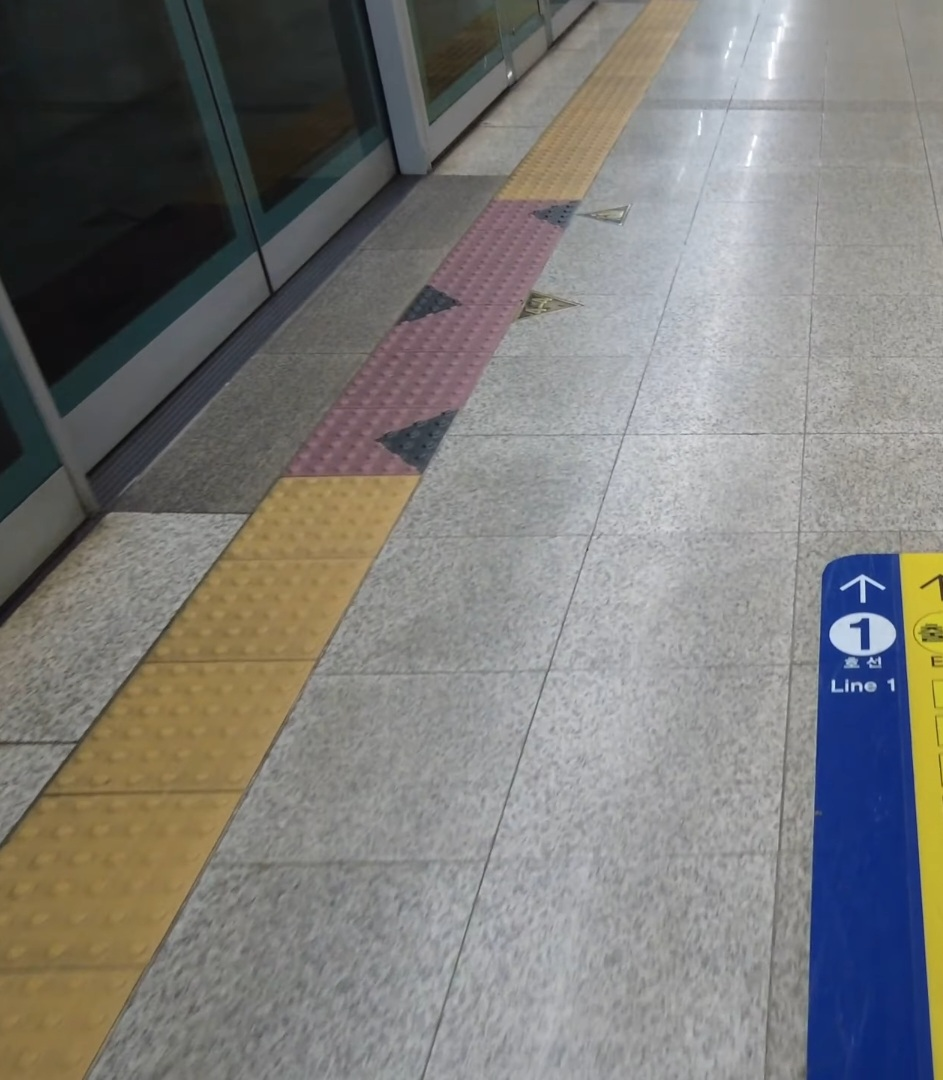warningBlock: (3, 800, 219, 959), (112, 673, 280, 786), (192, 574, 350, 677), (253, 468, 399, 566), (327, 406, 456, 473), (370, 349, 480, 413), (416, 297, 513, 360)
